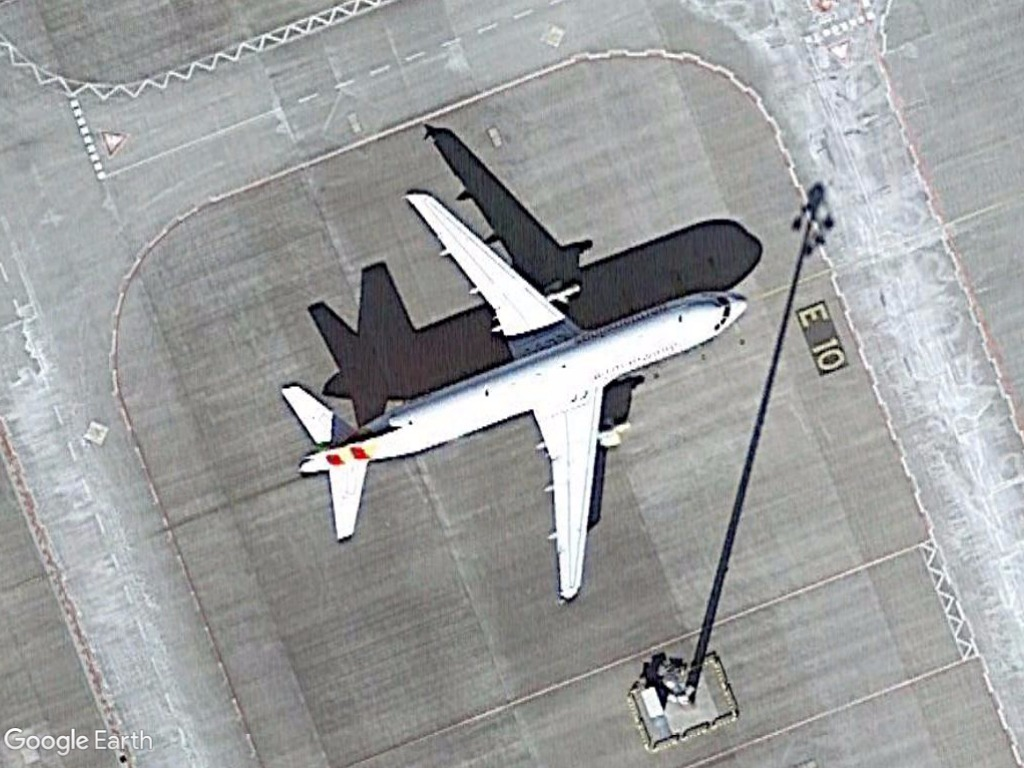airliner: (269, 176, 756, 613)
